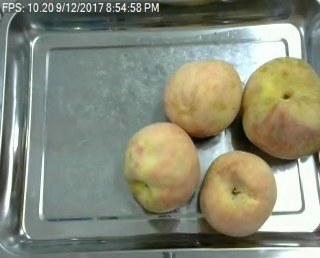Peach: (240, 54, 319, 158), (123, 120, 199, 212), (197, 150, 277, 237), (161, 58, 243, 137)
